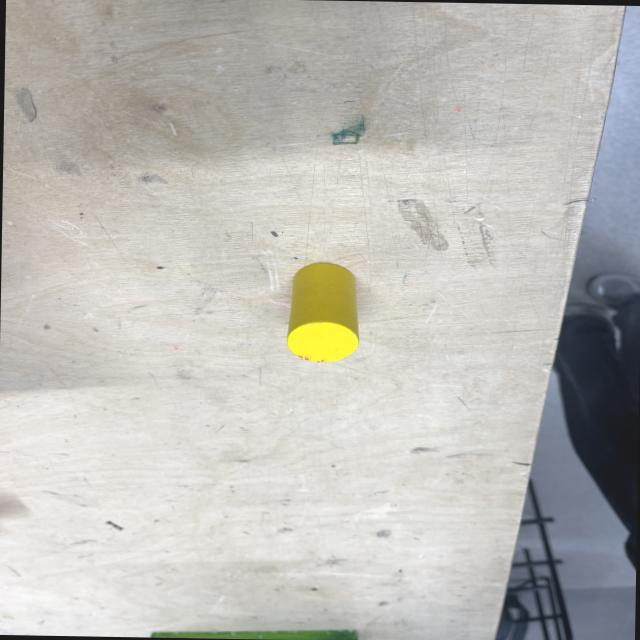yellow_cylinder: (286, 261, 360, 363)
